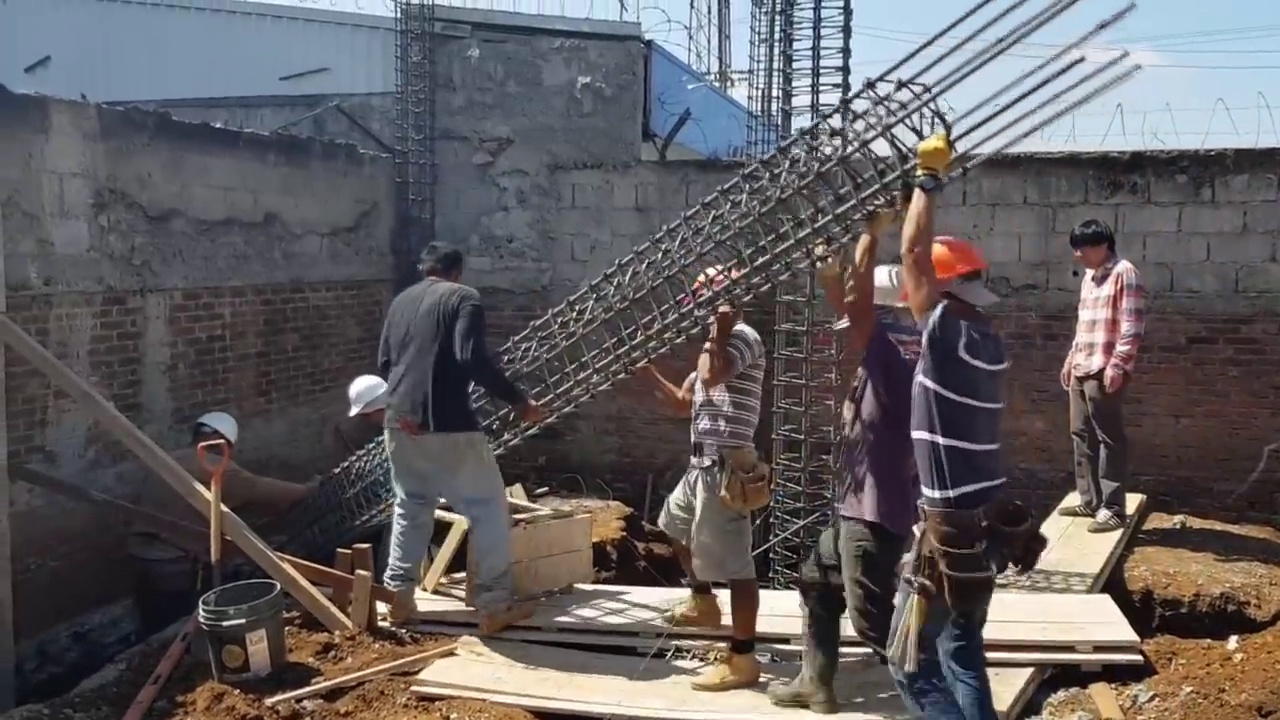helmet: (832, 264, 927, 330), (896, 235, 988, 300), (676, 264, 748, 306), (345, 374, 388, 419), (196, 410, 240, 444)
helmet-off: (1069, 219, 1117, 271), (415, 241, 465, 287)
helmet-on: (832, 262, 927, 354), (897, 238, 988, 319), (676, 261, 750, 326), (188, 407, 243, 455), (346, 372, 389, 429)
person: (773, 262, 928, 718), (378, 238, 548, 637), (895, 138, 1007, 719), (660, 259, 770, 694), (123, 410, 323, 577), (1058, 219, 1142, 533)
